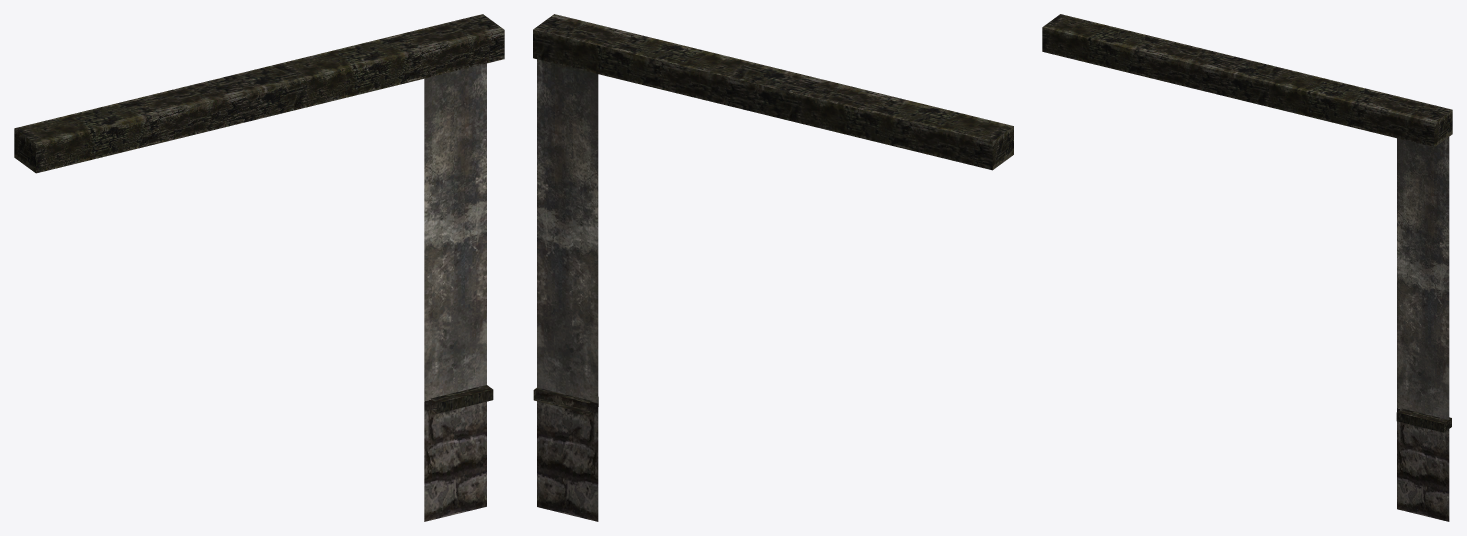
File: pubwallbare_gate01.DAE
3 renders of one model, left to right at view 1: azimuth 30°, elevation 25°; view 2: azimuth 150°, elevation 25°; view 3: azimuth 330°, elevation 25°, orthographic. The views are drawn at different scales.
Visible parts, largest first — view 1: Object099, Object098, Object100; view 2: Object099, Object098, Object100; view 3: Object099, Object098, Object100.
Part boxes in pixels (x1,y1,x2,y2): Object099: (14,14,504,413); Object098: (424,63,486,400); Object100: (424,399,486,521); Object099: (533,14,1013,413); Object098: (537,59,598,403); Object100: (537,391,598,521); Object099: (1042,14,1452,432); Object098: (1397,137,1449,419); Object100: (1397,408,1449,521).
Size of the model in its own units: 4.01 by 4 by 0.3217.
